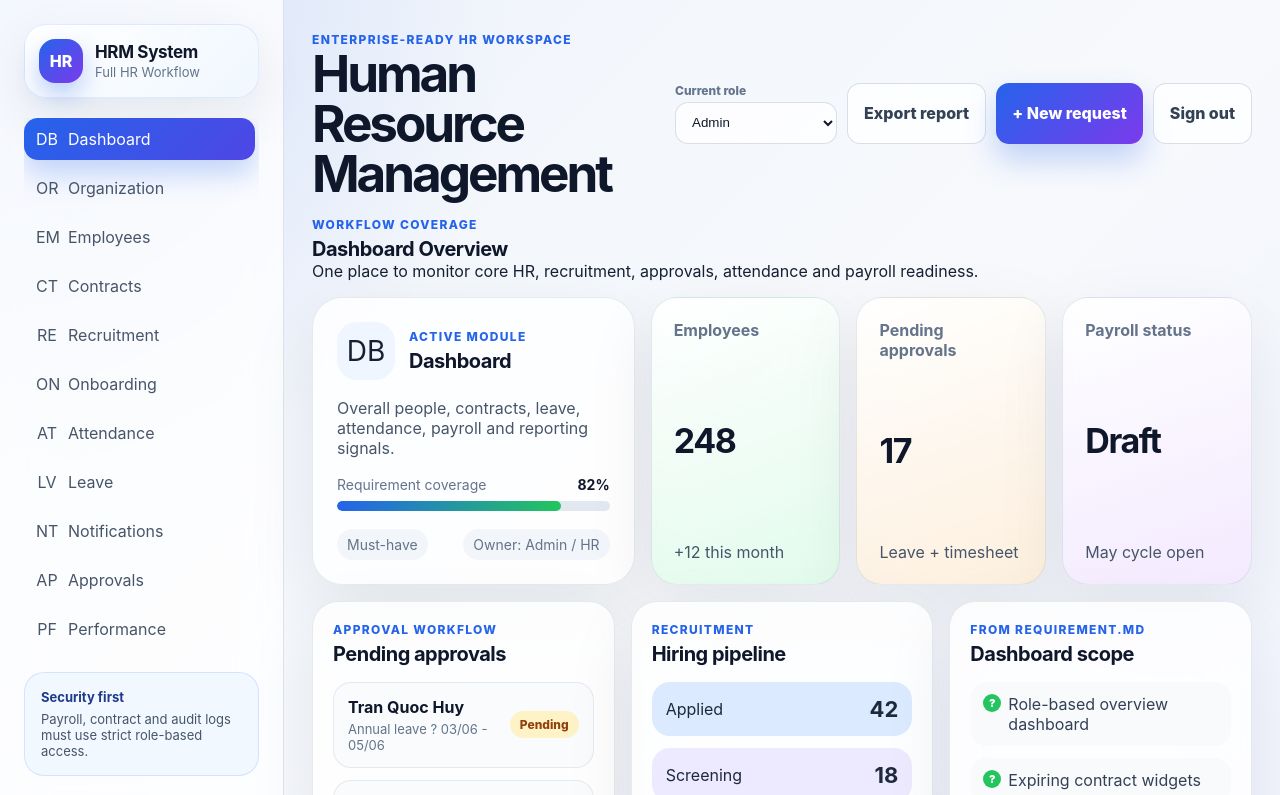
it: HRM route navigation › switches to the employees route and supports the empty search state
This screenshot has width=1280, height=795.
Click the link "EM Employees" at (93, 237), box top-left (36, 227), bottom-right (150, 247)
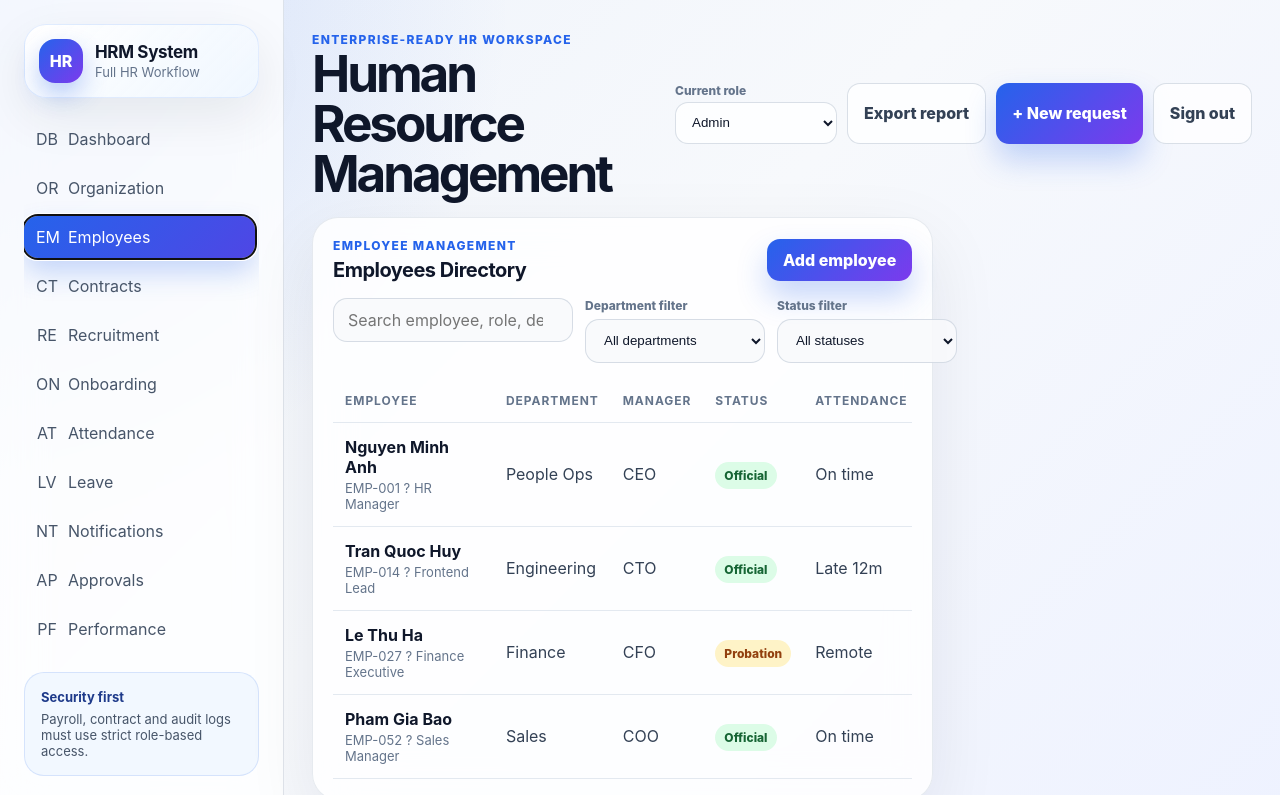
Expected: the heading "Employees Directory" is shown, top-left (333, 258), bottom-right (526, 282)
Type "not existing" into the search field named "search employees" at (453, 320), box top-left (333, 298), bottom-right (573, 342)
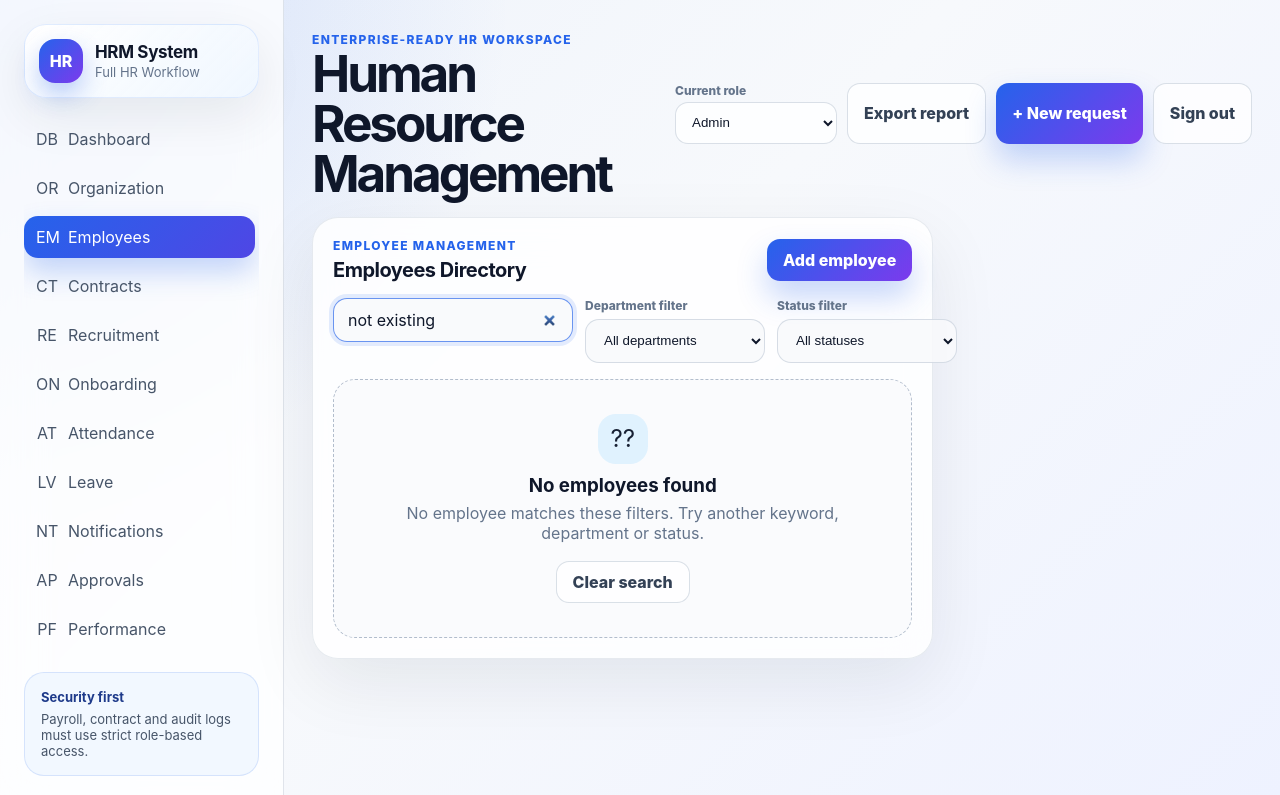
Expected: the heading "No employees found" is shown, top-left (529, 474), bottom-right (717, 496)
Click the button "Clear search" at (623, 582), box top-left (556, 560), bottom-right (690, 602)
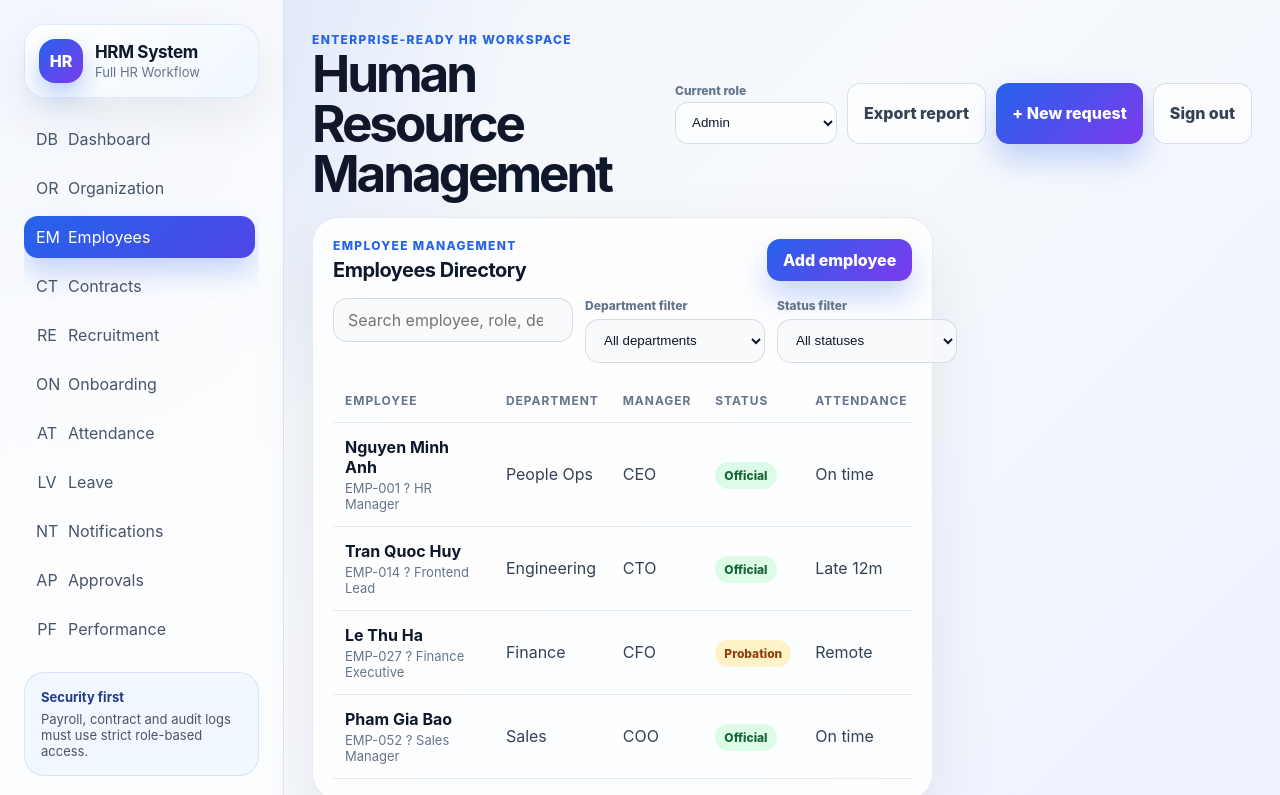
Expected: the text "Nguyen Minh Anh" is shown, top-left (345, 436), bottom-right (449, 476)
